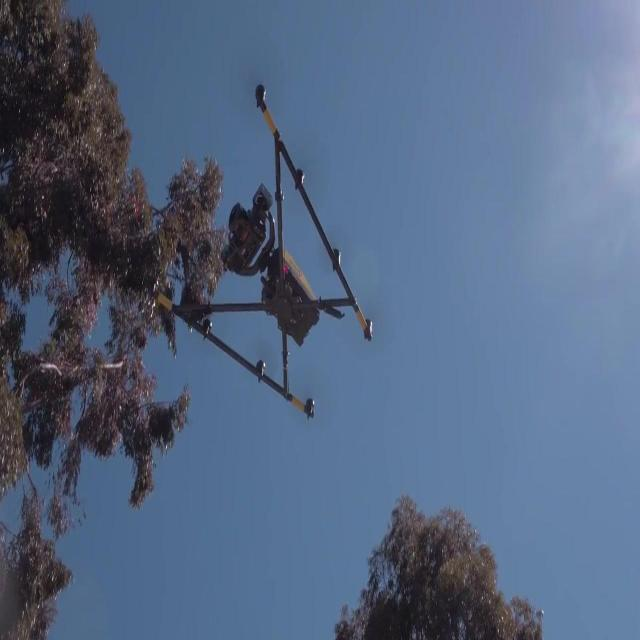UAV: (148, 84, 372, 418)
